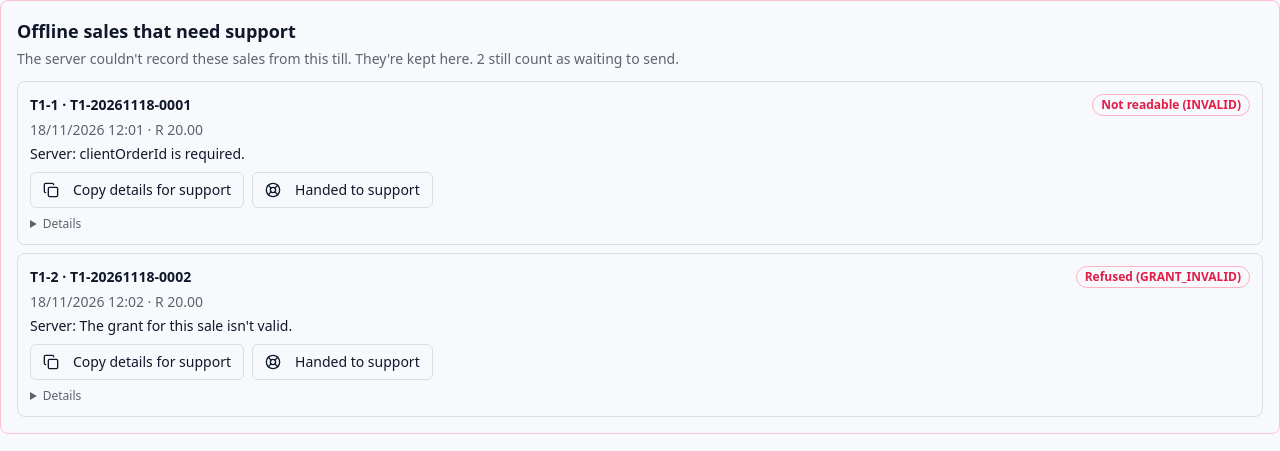
Test: OfflineSalesSupportCard › copies the details for support, without the grant string
This screenshot has width=1280, height=451.
Step 1. Click the button "Copy details for support" below "T1-1" → {"x": 137, "y": 190}, box 30,172 -> 244,208
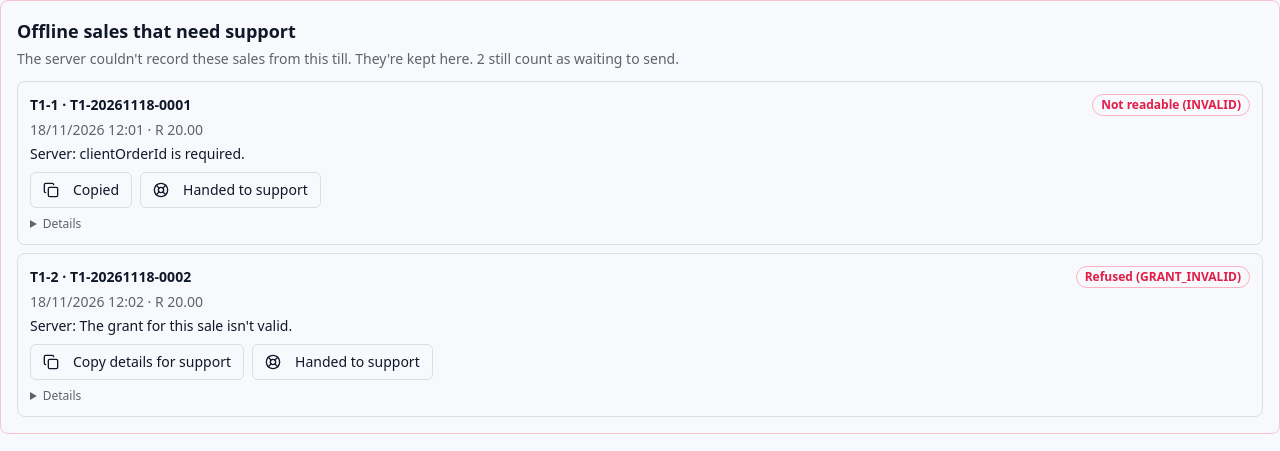
Expected: the button "Copied" is shown, 30,172 -> 132,208
